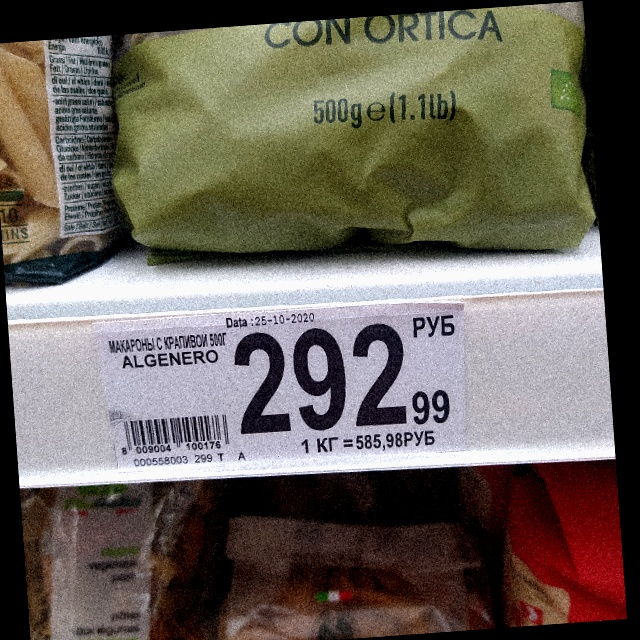barcode: (121, 412, 231, 455)
name: (109, 329, 229, 370)
price: (232, 323, 452, 435)
price_tag: (106, 301, 467, 471)
